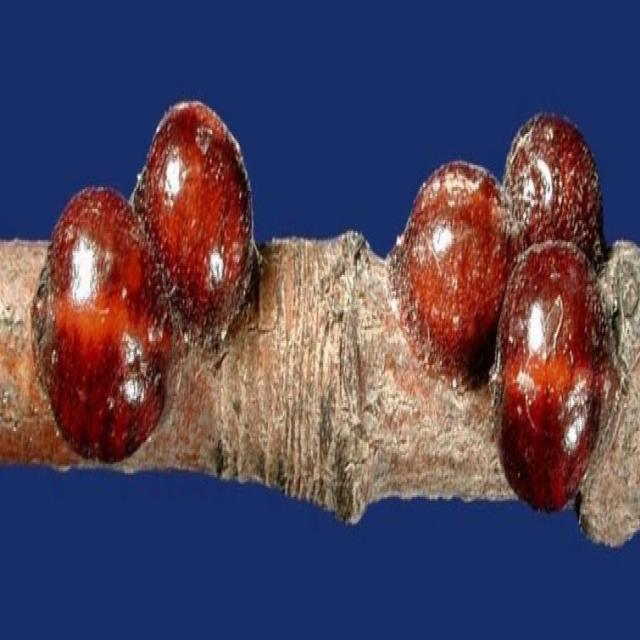Olive Fruit Fly: (395, 114, 616, 508), (31, 101, 259, 460)
